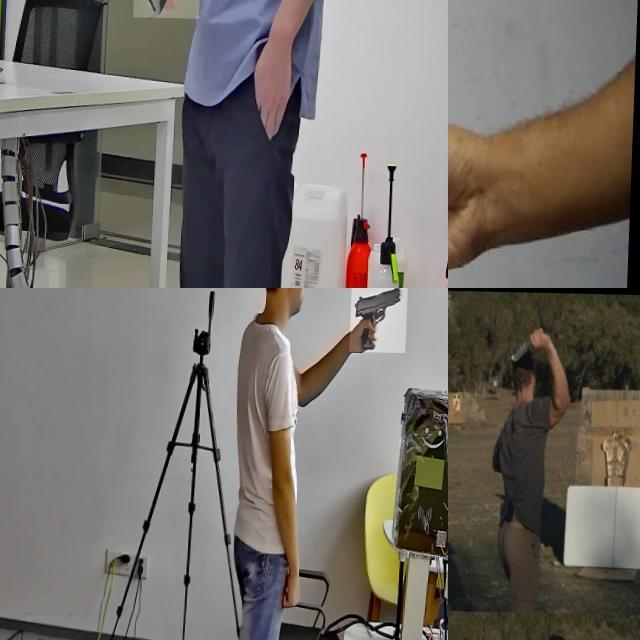-: (448, 0, 502, 288), (508, 322, 545, 365), (448, 373, 461, 444)
gun-knife-thesis - v11 Yolov5 augmented: (135, 0, 206, 86), (351, 288, 409, 350)
